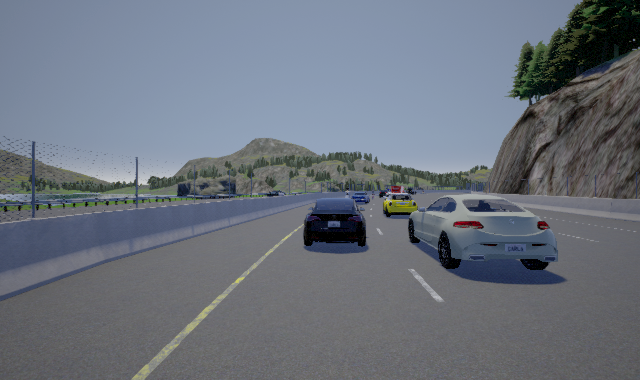vehicle: (408, 186, 558, 272), (303, 192, 370, 247), (383, 192, 420, 218)
